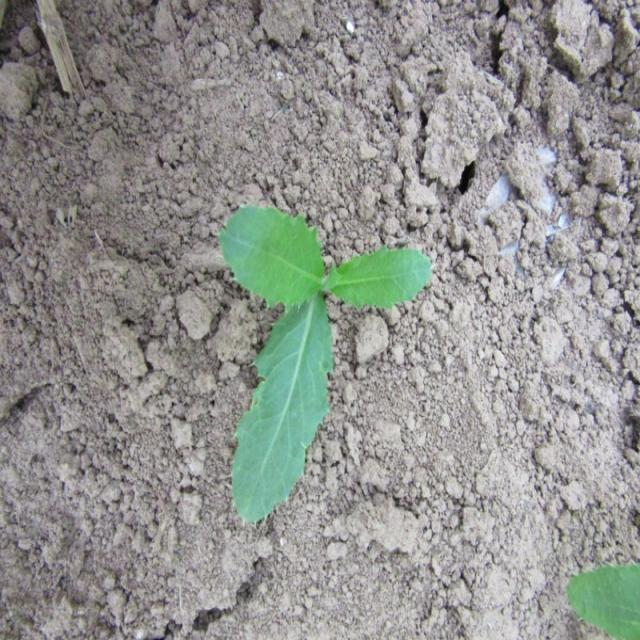field_thistle: (206, 158, 439, 542)
